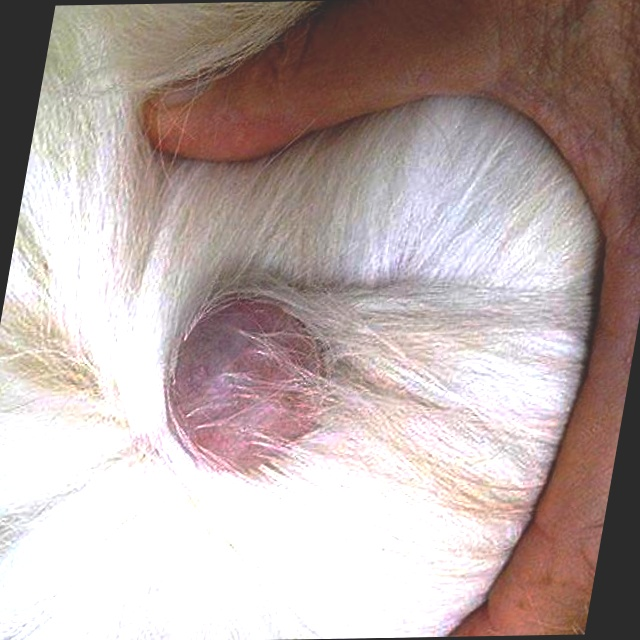lump_and_bump: (158, 282, 334, 482)
